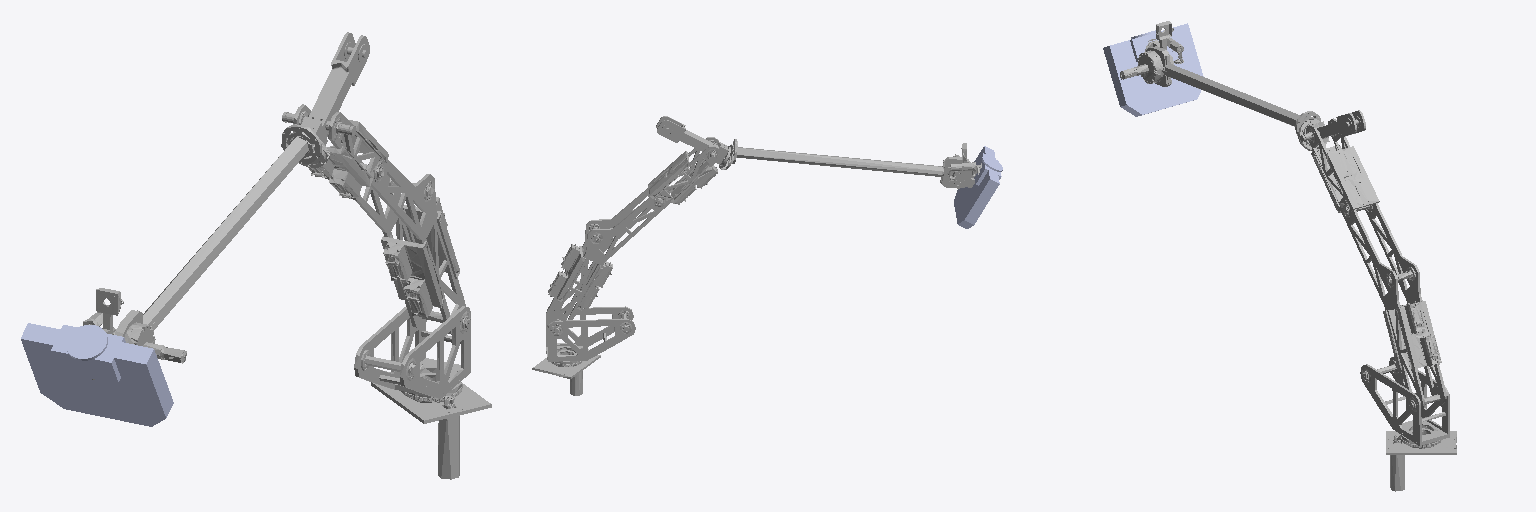
The robot description file, URDF, robot "arm_urdf":
<?xml version="1.0" encoding="utf-8"?>
<!-- This URDF was automatically created by SolidWorks to URDF Exporter! Originally created by [author] ([email redacted]) 
     Commit Version: 1.6.0-4-g7f85cfe  Build Version: 1.6.7995.38578
     For more information, please see http://wiki.ros.org/sw_urdf_exporter -->
<robot
  name="arm_urdf">
  <link name="arm_base_link"/>
  <joint name="arm_base_joint" type="fixed">
    <parent link="arm_base_link"/>
    <child link="Link_1"/>
    <origin xyz="0.0 0.0 0.0 " rpy="0 0 0"/>
  </joint>
  <link
    name="Link_1">
    <inertial>
      <origin
        xyz="1.2135E-06 -0.02143 -0.020558"
        rpy="0 0 0" />
      <mass
        value="1.1012" />
      <inertia
        ixx="0.0016519"
        ixy="-6.1763E-09"
        ixz="6.851E-09"
        iyy="0.0012744"
        iyz="-4.7508E-08"
        izz="0.00197" />
    </inertial>
    <visual>
      <origin
        xyz="0 0 0"
        rpy="0 0 0" />
      <geometry>
        <mesh
          filename="package://arm_urdf/meshes/visual/Link_1.STL" />
      </geometry>
      <material
        name="">
        <color
          rgba="0.75294 0.75294 0.75294 1" />
      </material>
    </visual>
    <collision>
      <origin
        xyz="0 0 0"
        rpy="0 0 0" />
      <geometry>
        <mesh
          filename="package://arm_urdf/meshes/visual/Link_1.STL" />
      </geometry>
    </collision>
  </link>
  <link
    name="Link_2">
    <inertial>
      <origin
        xyz="0.043108 -2.1745E-05 0.059053"
        rpy="0 0 0" />
      <mass
        value="0.73837" />
      <inertia
        ixx="0.00093874"
        ixy="1.5579E-12"
        ixz="-0.00038189"
        iyy="0.0036493"
        iyz="-2.0363E-13"
        izz="0.0029712" />
    </inertial>
    <visual>
      <origin
        xyz="0 0 0"
        rpy="0 0 0" />
      <geometry>
        <mesh
          filename="package://arm_urdf/meshes/visual/Link_2.STL" />
      </geometry>
      <material
        name="">
        <color
          rgba="0.75294 0.75294 0.75294 1" />
      </material>
    </visual>
    <collision>
      <origin
        xyz="0 0 0"
        rpy="0 0 0" />
      <geometry>
        <mesh
          filename="package://arm_urdf/meshes/visual/Link_2.STL" />
      </geometry>
    </collision>
  </link>
  <joint
    name="Joint_1"
    type="revolute">
    <origin
      xyz="0 0 0.022287"
      rpy="0 0 0" />
    <parent
      link="Link_1" />
    <child
      link="Link_2" />
    <axis
      xyz="0 0 1" />
    <limit effort="100.0" velocity="1.0" lower="-3.981728005722112" upper="-1.1116499515880771"/>
  </joint>
  <link
    name="Link_3">
    <inertial>
      <origin
        xyz="0.19303 -5.1959E-06 0.26879"
        rpy="0 0 0" />
      <mass
        value="2.2244" />
      <inertia
        ixx="0.023418"
        ixy="3.1415E-07"
        ixz="-0.019021"
        iyy="0.040426"
        iyz="2.9106E-07"
        izz="0.017736" />
    </inertial>
    <visual>
      <origin
        xyz="0 0 0"
        rpy="0 0 0" />
      <geometry>
        <mesh
          filename="package://arm_urdf/meshes/visual/Link_3.STL" />
      </geometry>
      <material
        name="">
        <color
          rgba="0.75294 0.75294 0.75294 1" />
      </material>
    </visual>
    <collision>
      <origin
        xyz="0 0 0"
        rpy="0 0 0" />
      <geometry>
        <mesh
          filename="package://arm_urdf/meshes/visual/Link_3.STL" />
      </geometry>
    </collision>
  </link>
  <joint
    name="Joint_2"
    type="revolute">
    <origin
      xyz="-0.03175 0 0.1"
      rpy="0 0 0" />
    <parent
      link="Link_2" />
    <child
      link="Link_3" />
    <axis
      xyz="0 -1 0" />
    <limit effort="100.0" velocity="0.10" lower="-0.65" upper="0.2361743685324814"/>
  </joint>
  <link
    name="Link_4">
    <inertial>
      <origin
        xyz="-0.01434 1.2814E-05 0.0091153"
        rpy="0 0 0" />
      <mass
        value="0.72553" />
      <inertia
        ixx="0.00031276"
        ixy="-8.4012E-07"
        ixz="0.00012697"
        iyy="0.0012481"
        iyz="1.1564E-07"
        izz="0.0012124" />
    </inertial>
    <visual>
      <origin
        xyz="0 0 0"
        rpy="0 0 0" />
      <geometry>
        <mesh
          filename="package://arm_urdf/meshes/visual/Link_4.STL" />
      </geometry>
      <material
        name="">
        <color
          rgba="0.75294 0.75294 0.75294 1" />
      </material>
    </visual>
    <collision>
      <origin
        xyz="0 0 0"
        rpy="0 0 0" />
      <geometry>
        <mesh
          filename="package://arm_urdf/meshes/visual/Link_4.STL" />
      </geometry>
    </collision>
  </link>
  <joint
    name="Joint_3"
    type="revolute">
    <origin
      xyz="0.4507 0 0.5371"
      rpy="0 0 0" />
    <parent
      link="Link_3" />
    <child
      link="Link_4" />
    <axis
      xyz="0 -1 0" />
    <limit effort="100.0" velocity="0.08" lower="-0.7417525505578109" upper="0.2139174802949436"/>
  </joint>
  <link
    name="Link_5">
    <inertial>
      <origin
        xyz="0.51419 0.0050617 -0.071041"
        rpy="0 0 0" />
      <mass
        value="0.90226" />
      <inertia
        ixx="0.00051877"
        ixy="-2.4488E-08"
        ixz="0.0012308"
        iyy="0.0095984"
        iyz="5.8789E-08"
        izz="0.0092566" />
    </inertial>
    <visual>
      <origin
        xyz="0 0 0"
        rpy="0 0 0" />
      <geometry>
        <mesh
          filename="package://arm_urdf/meshes/visual/Link_5.STL" />
      </geometry>
      <material
        name="">
        <color
          rgba="0.75294 0.75294 0.75294 1" />
      </material>
    </visual>
    <collision>
      <origin
        xyz="0 0 0"
        rpy="0 0 0" />
      <geometry>
        <mesh
          filename="package://arm_urdf/meshes/visual/Link_5.STL" />
      </geometry>
    </collision>
  </link>
  <joint
    name="Joint_4"
    type="revolute">
    <origin
      xyz="0.03191 0 -0.0044098"
      rpy="0 0 0" />
    <parent
      link="Link_4" />
    <child
      link="Link_5" />
    <axis
      xyz="-0.99059 0 0.1369" />
    <limit effort="100.0" velocity="1.0" lower="-30.14" upper="30.14"/>
  </joint>
  <link
    name="Link_6">
    <inertial>
      <origin
        xyz="0.0383763684322416 -0.0312533725314954 0.0119826354812156"
        rpy="0 0 0" />
      <mass
        value="0.496128874632715" />
      <inertia
        ixx="0.000436019677417067"
        ixy="1.79387675641684E-08"
        ixz="5.55858498377867E-06"
        iyy="0.000360350959516144"
        iyz="1.18167225716985E-06"
        izz="0.00017729369850073" />
    </inertial>
    <visual>
      <origin
        xyz="0 0 0"
        rpy="0 0 0" />
      <geometry>
        <mesh
          filename="package://arm_urdf/meshes/visual/Link_6.STL" />
      </geometry>
      <material
        name="">
        <color
          rgba="0.752941176470588 0.752941176470588 0.752941176470588 1" />
      </material>
    </visual>
    <collision>
      <origin
        xyz="0 0 0"
        rpy="0 0 0" />
      <geometry>
        <mesh
          filename="package://arm_urdf/meshes/visual/Link_6.STL" />
      </geometry>
    </collision>
  </link>
  <joint
    name="Joint_5"
    type="revolute">
    <origin
      xyz="0.68151 0 -0.094183"
      rpy="0 0 0" />
    <parent
      link="Link_5" />
    <child
      link="Link_6" />
    <axis
      xyz="0 -1 0" />
    <limit effort="100.0" velocity="1.0" lower="-1.599417185" upper="1.1678841562"/>
  </joint>
  <link
    name="Link_7">
    <inertial>
      <origin
        xyz="0.087198 -5.5511E-17 -2.2204E-16"
        rpy="0 0 0" />
      <mass
        value="1.4764" />
      <inertia
        ixx="0.0058401"
        ixy="-1.0445E-18"
        ixz="5.2558E-18"
        iyy="0.0043142"
        iyz="3.419E-19"
        izz="0.0097785" />
    </inertial>
    <visual>
      <origin
        xyz="0 0 0"
        rpy="0 0 0" />
      <geometry>
        <mesh
          filename="package://arm_urdf/meshes/visual/Link_7.STL" />
      </geometry>
      <material
        name="">
        <color
          rgba="0.79216 0.81961 0.93333 1" />
      </material>
    </visual>
    <collision>
      <origin
        xyz="0 0 0"
        rpy="0 0 0" />
      <geometry>
        <mesh
          filename="package://arm_urdf/meshes/visual/Link_7.STL" />
      </geometry>
    </collision>
  </link>
  <joint
    name="Joint_6"
    type="continuous">
    <origin
      xyz="0.071675 -0.02785 0"
      rpy="0 0 0" />
    <parent
      link="Link_6" />
    <child
      link="Link_7" />
    <axis
      xyz="-1 0 0" />
    <limit effort="100.0" velocity="1.5"/>
  </joint>
  <link name="eef_link"/>
  <joint name="eef_joint" type="fixed">
    <parent link="Link_7"/>
    <child link="eef_link"/>
    <origin xyz="0.2 0.0 0.0 " rpy="0 0 0"/>
  </joint>
</robot>

--- Facts derived from the render (not from the file) ---
The picture shows the robot from 3 angles, left to right: view 1: azimuth 30°, elevation 25°; view 2: azimuth 150°, elevation 25°; view 3: azimuth 270°, elevation 25°; orthographic projection.
Model arm_urdf with 9 links and 8 joints (5 revolute, 1 continuous, 2 fixed), rooted at arm_base_link, posed joints at zero except 1 at the middle of their limits (Joint_1 = -2.55).
Links seen in each view (by area): view 1: Link_3, Link_7, Link_5, Link_2, Link_1, Link_4, Link_6; view 2: Link_3, Link_2, Link_5, Link_7, Link_4, Link_1, Link_6; view 3: Link_3, Link_7, Link_2, Link_5, Link_1, Link_4, Link_6.
Link boxes in pixels (box(x1,y1,x2,y2)): Link_3: box(293, 104, 465, 334); Link_7: box(21, 323, 173, 426); Link_5: box(113, 124, 321, 363); Link_2: box(354, 306, 470, 398); Link_1: box(371, 373, 491, 479); Link_4: box(282, 32, 369, 167); Link_6: box(83, 288, 123, 379); Link_3: box(546, 137, 720, 326); Link_2: box(546, 306, 635, 361); Link_5: box(732, 139, 974, 188); Link_7: box(954, 146, 1002, 228); Link_4: box(656, 116, 733, 169); Link_1: box(532, 350, 600, 395); Link_6: box(948, 143, 981, 187); Link_3: box(1306, 118, 1446, 409); Link_7: box(1103, 23, 1203, 116); Link_2: box(1360, 357, 1449, 445); Link_5: box(1120, 46, 1320, 135); Link_1: box(1386, 428, 1456, 491); Link_4: box(1298, 110, 1365, 151); Link_6: box(1145, 21, 1183, 64).
Bounding box of the posed robot: 1.18 × 0.8516 × 0.8873 m (x, y, z).
Meshes: 7 distinct files referenced, 7 mesh visuals loaded (7 binary STL).